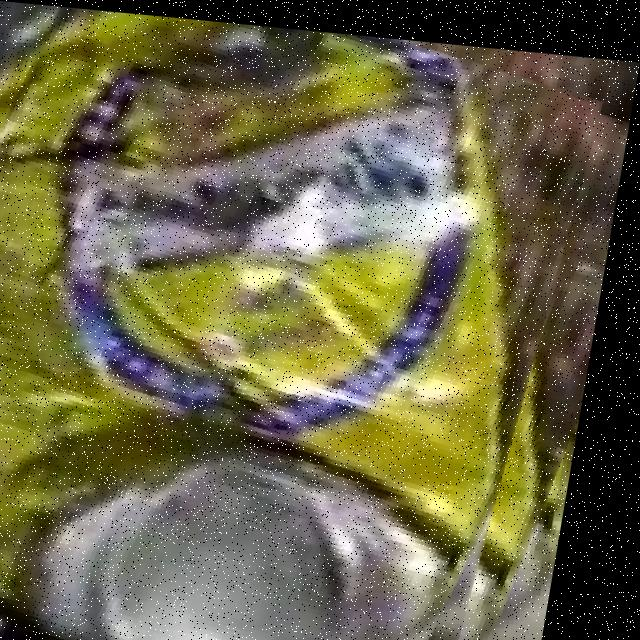can: (0, 8, 520, 640)
